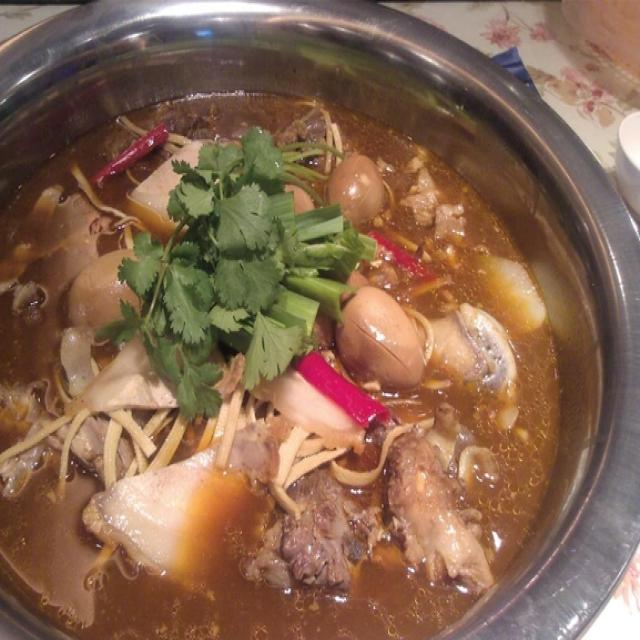汤锅炖物: (13, 11, 616, 628)
